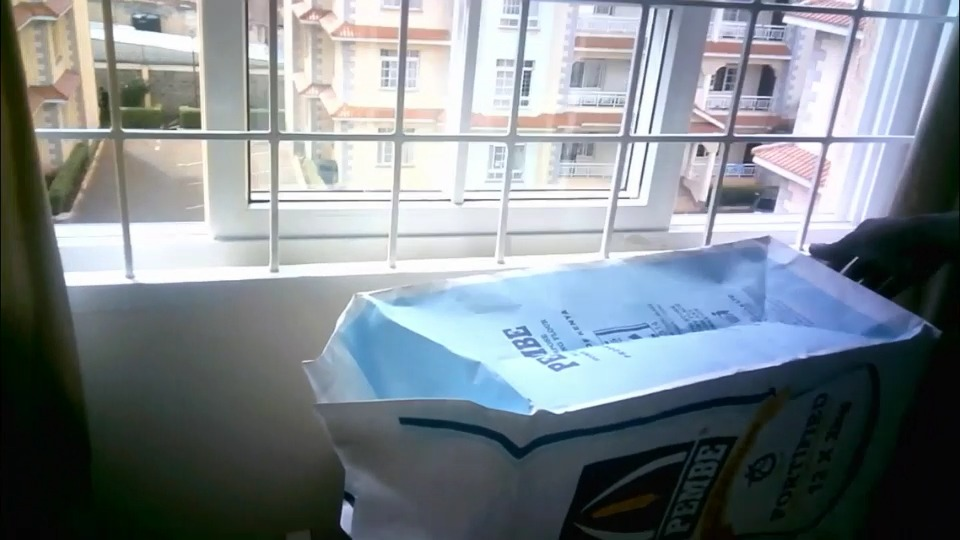wheat_flour_blue_label: (296, 237, 938, 539)
